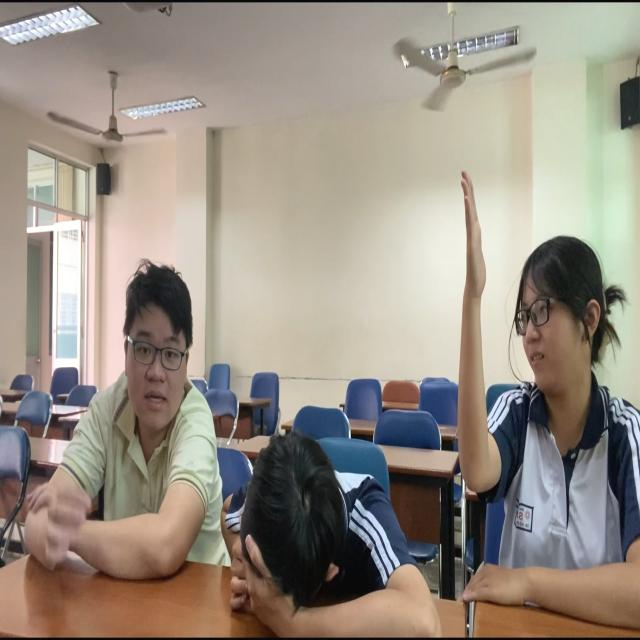raise_hand: (440, 122, 640, 640)
sleep: (209, 419, 440, 640)
